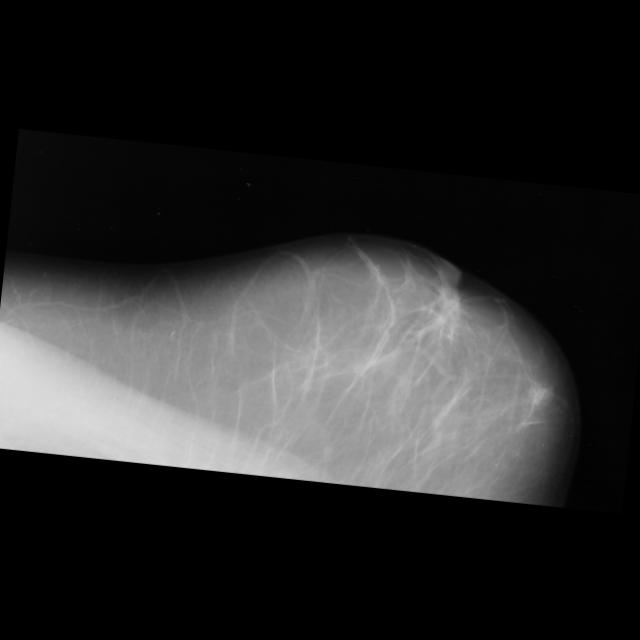CIRC: (0, 349, 552, 638)
